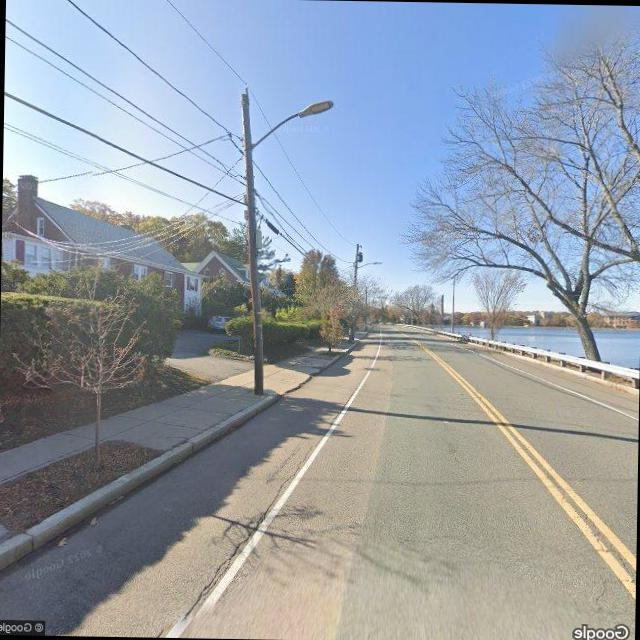pothole: (191, 409, 336, 608), (593, 575, 611, 613), (450, 428, 466, 463)
